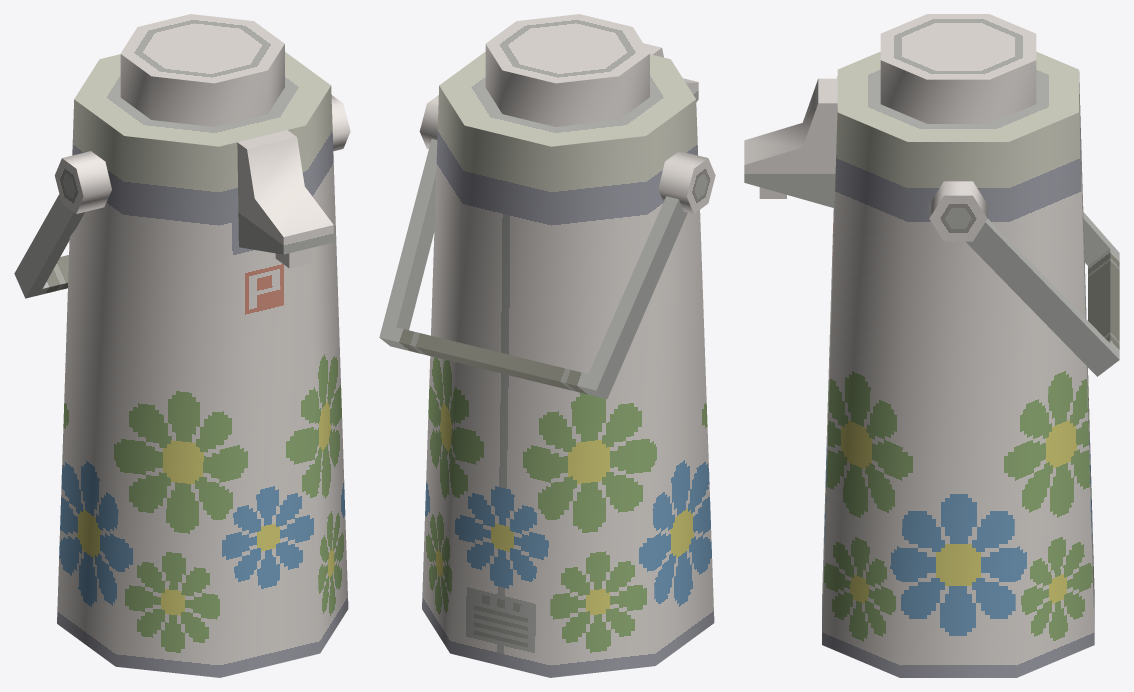
File: 02d0_Thermos_Pot.glb
The picture shows the model from 3 angles, left to right: view 1: azimuth 30°, elevation 25°; view 2: azimuth 150°, elevation 25°; view 3: azimuth 270°, elevation 25°; orthographic projection.
Visible parts, largest first — view 1: part_0; view 2: part_0; view 3: part_0.
Part boxes in pixels (x1,y1,x2,y2): part_0: (14, 14, 350, 677); part_0: (379, 14, 715, 677); part_0: (744, 14, 1119, 677).
Size of the model in its own units: 0.16 by 0.325 by 0.1929.
1 material, 1 textured.
